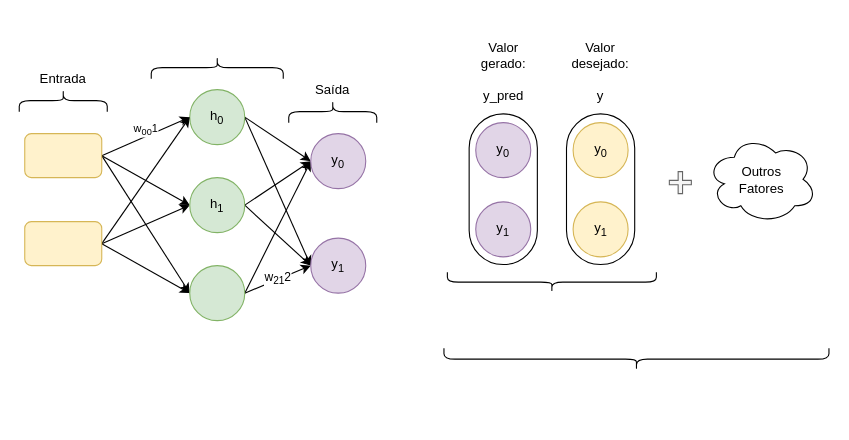
Image size: 849x440. Some labels were removed from this diagram. The box of each missing label's shape, as (x1, y1, x2, y2) in pixels:
Camadas Intermediárias: (150, 56, 283, 79)
Cálculo da Perda: (446, 271, 656, 292)
Cálculo do custo (individual): (443, 347, 829, 370)
h 2: (189, 265, 245, 321)
x 0: (24, 133, 102, 178)
x 1: (24, 221, 102, 266)
